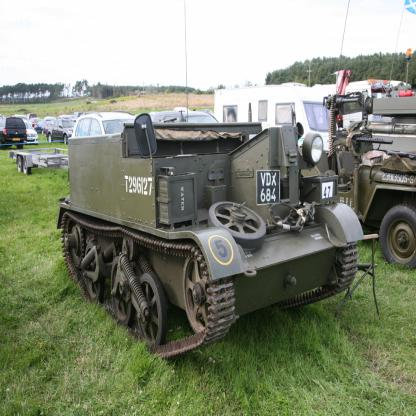Car: (0, 107, 220, 149)
